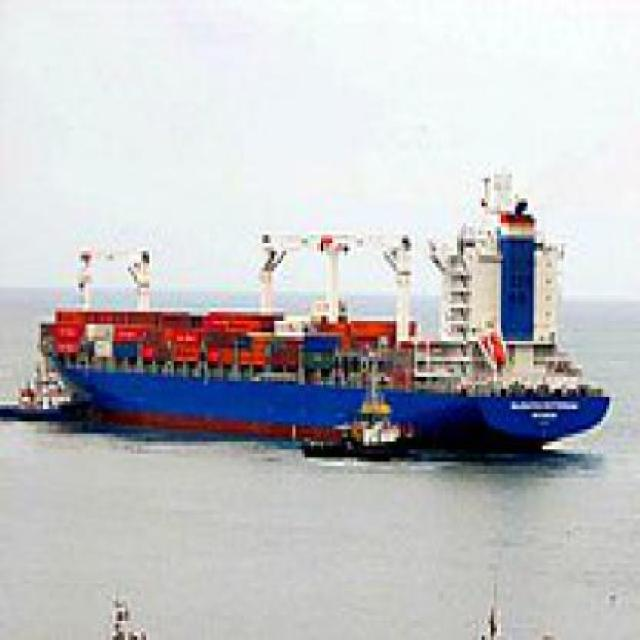container: (28, 159, 617, 471)
